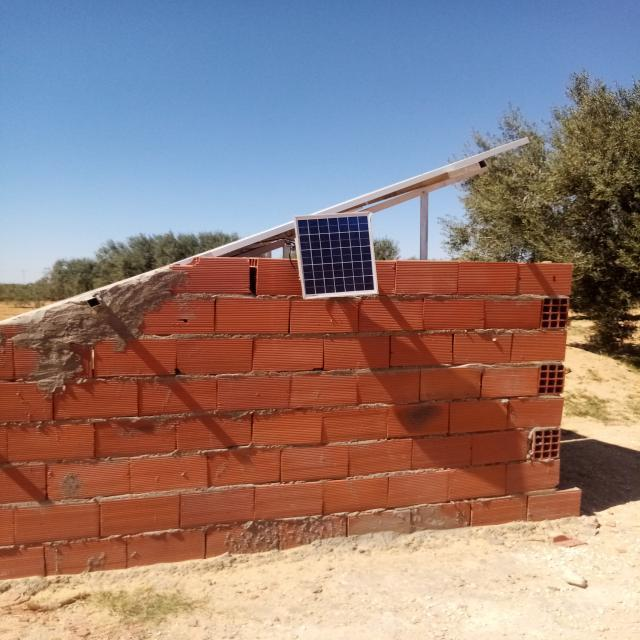no faulty: (295, 212, 378, 298)
